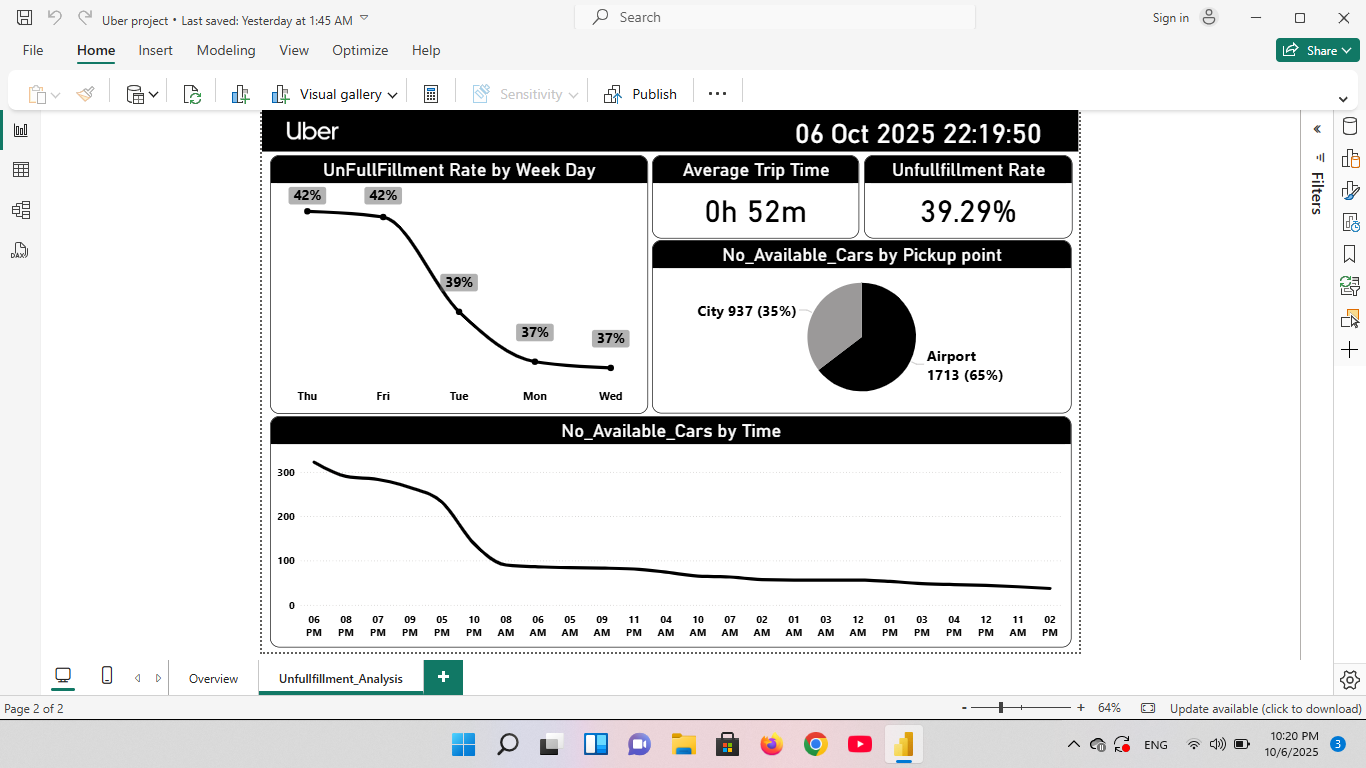

The dashboard page shown, as its layout file describes it:
{"tool":"powerbi","page":{"name":"Unfullfillment_Analysis","canvas":[1280,850],"ordinal":1},"visuals":[{"type":"group","id":"g1","title":"Bar","box":[0,0,1280.3,65.2],"z":0},{"type":"shape","box":[0,0,1280.2,64.8],"z":0,"group":"g1"},{"type":"image","box":[0,0,158.3,65],"z":1000,"group":"g1"},{"type":"card","title":"Average Trip Time","fields":{"Values":["_Measures.Average Trip Duration"]},"box":[611.9,70.5,325,131],"z":1000},{"type":"card","fields":{"Values":["_Measures.Last Update"]},"box":[777.7,0,502.6,65.2],"z":2000,"group":"g1"},{"type":"card","title":"Unfullfillment Rate","fields":{"Values":["_Measures.UnFullFillment Rate"]},"box":[943.5,70.5,327,131],"z":2000},{"type":"lineChart","fields":{"Category":["Uber Request Data.Time"],"Y":["_Measures.No_Available_Cars"]},"box":[12.3,479.7,1257.4,363.3],"z":3000},{"type":"lineChart","fields":{"Category":["Uber Request Data.Week Day"],"Y":["_Measures.UnFullFillment Rate"]},"box":[12.3,70.5,593,405.6],"z":4000},{"type":"pieChart","fields":{"Category":["Uber Request Data.Pickup point"],"Y":["_Measures.No_Available_Cars"]},"box":[611.9,204.6,657.8,271.6],"z":5000}]}

Visuals, with their boxes on the page's 1280x850 design canvas (x1, y1, x2, y2). These are canvas units, not pixel positions in the 1366x768 screenshot, which may show the page scaled, cropped or inside an application window:
"Bar" group: bbox=(0, 0, 1280, 65)
shape: bbox=(0, 0, 1280, 65)
image: bbox=(0, 0, 158, 65)
"Average Trip Time" card: bbox=(612, 70, 937, 202)
card - _Measures.Last Update: bbox=(778, 0, 1280, 65)
"Unfullfillment Rate" card: bbox=(944, 70, 1270, 202)
lineChart - Uber Request Data.Time x _Measures.No_Available_Cars: bbox=(12, 480, 1270, 843)
lineChart - Uber Request Data.Week Day x _Measures.UnFullFillment Rate: bbox=(12, 70, 605, 476)
pieChart - Uber Request Data.Pickup point x _Measures.No_Available_Cars: bbox=(612, 205, 1270, 476)
